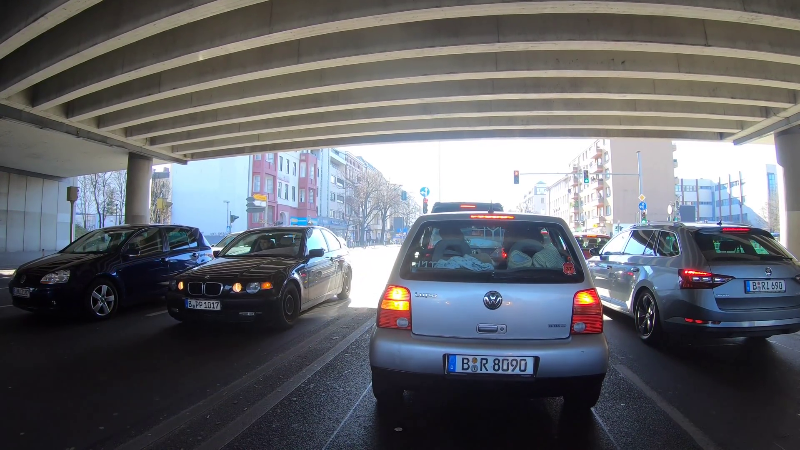Plate: (441, 350, 540, 377), (740, 278, 787, 293), (183, 298, 221, 313), (10, 284, 31, 297)
